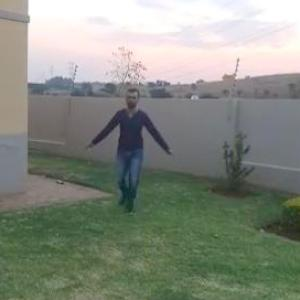land: (84, 85, 176, 216)
